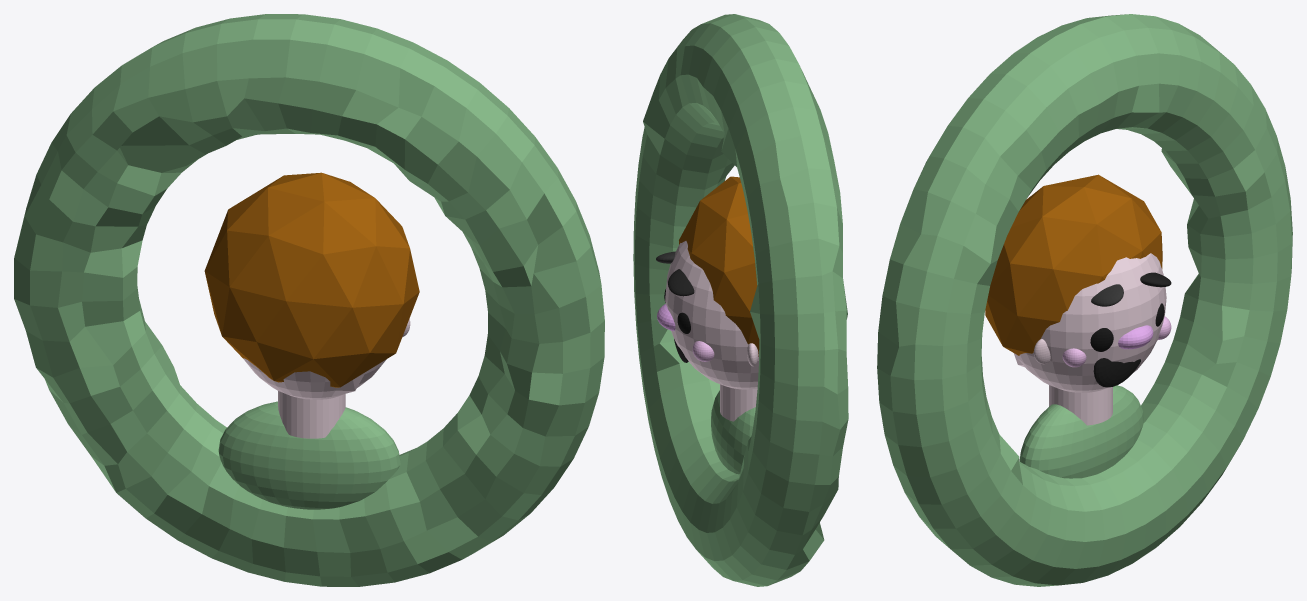
The model's file is padrefeliz.fbx.
3 views of the same model, side by side, from view 1: azimuth 30°, elevation 25°; view 2: azimuth 150°, elevation 25°; view 3: azimuth 270°, elevation 25° (orthographic). The views are drawn at different scales.
Visible parts, largest first — view 1: Rosca.001, Esfera geodésica, Esfera.004, Cilindro, Esfera; view 2: Rosca.001, Esfera geodésica, Esfera, Esfera.004, Cilindro, Esfera.008, Esfera.011, Esfera.001; view 3: Rosca.001, Esfera geodésica, Esfera, Esfera.004, Cilindro, Esfera.007, Esfera.001.
Boxes of the visible parts, bbox=[...] form: Rosca.001: bbox=[14, 14, 604, 586]; Esfera geodésica: bbox=[204, 172, 419, 387]; Esfera.004: bbox=[218, 401, 400, 509]; Cilindro: bbox=[278, 391, 345, 438]; Esfera: bbox=[243, 358, 386, 399]; Rosca.001: bbox=[633, 14, 848, 586]; Esfera geodésica: bbox=[679, 176, 759, 356]; Esfera: bbox=[665, 241, 758, 389]; Esfera.004: bbox=[711, 390, 755, 474]; Cilindro: bbox=[720, 384, 757, 421]; Esfera.008: bbox=[668, 269, 694, 296]; Esfera.011: bbox=[692, 341, 714, 361]; Esfera.001: bbox=[657, 304, 675, 331]; Rosca.001: bbox=[877, 14, 1292, 586]; Esfera geodésica: bbox=[985, 174, 1162, 355]; Esfera: bbox=[1014, 253, 1166, 392]; Esfera.004: bbox=[1019, 385, 1143, 478]; Cilindro: bbox=[1049, 385, 1112, 425]; Esfera.007: bbox=[1093, 358, 1140, 387]; Esfera.001: bbox=[1118, 325, 1153, 349].
Size of the model in its own units: 602 by 824 by 580.
